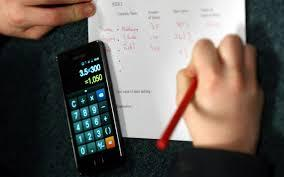Calculator: (61, 62, 122, 155)
